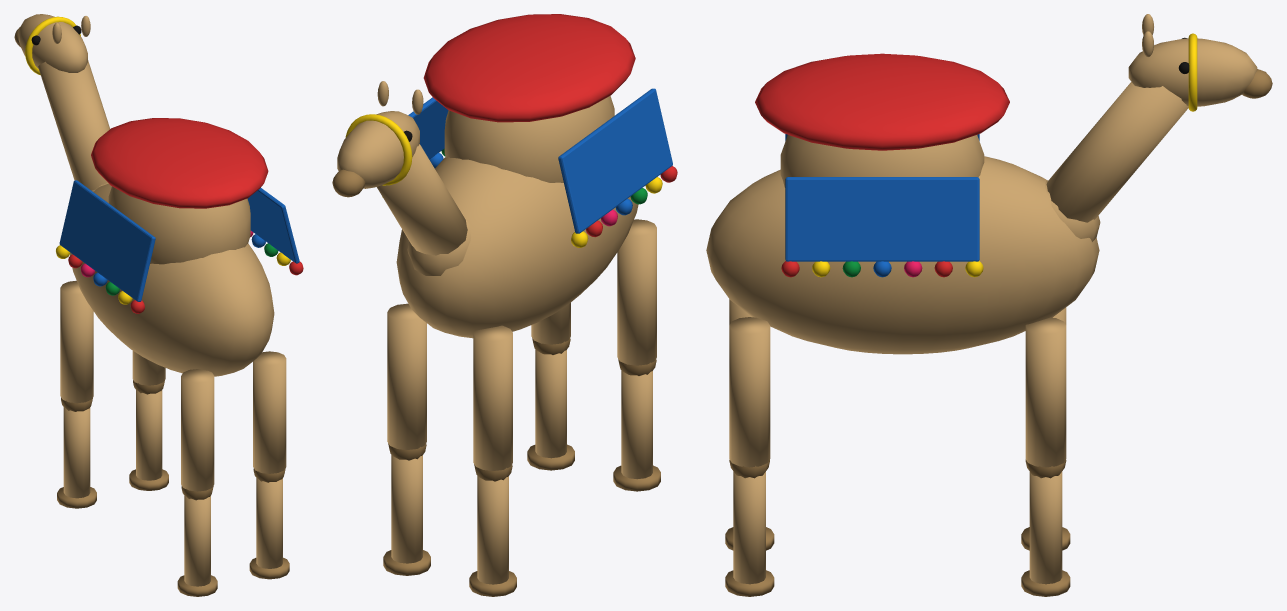
The model's file is camel.glb.
The picture shows the model from 3 angles, left to right: view 1: azimuth 30°, elevation 25°; view 2: azimuth 150°, elevation 25°; view 3: azimuth 270°, elevation 25°; orthographic projection. The views are drawn at different scales.
Visible parts, largest first — view 1: Sphere, Sphere.013, Cube, Sphere.001, Cylinder, Cylinder.001, Cylinder.007, Cylinder.004, Sphere.003, Cylinder.005, Cylinder.011, Cylinder.002 (+8 smaller); view 2: Sphere, Sphere.013, Cube, Sphere.001, Cylinder.004, Cylinder.010, Cylinder.001, Cylinder, Sphere.003, Cylinder.011, Cylinder.005, Cylinder.002 (+10 smaller); view 3: Sphere, Sphere.013, Cube.001, Cylinder, Sphere.001, Cylinder.007, Cylinder.010, Sphere.003, Cylinder.011, Cylinder.008, Cylinder.009, Cylinder.012 (+2 smaller).
Part boxes in pixels (x1,y1,x2,y2): Sphere: (70,183,274,376); Sphere.013: (91,118,268,208); Cube: (59,180,155,301); Sphere.001: (108,186,250,264); Cylinder: (38,60,109,190); Cylinder.001: (181,369,214,491); Cylinder.007: (253,351,286,473); Cylinder.004: (60,280,93,403); Sphere.003: (18,14,87,72); Cylinder.005: (63,407,90,498); Cylinder.011: (136,390,162,480); Cylinder.002: (184,496,210,586); Sphere: (396,157,638,338); Sphere.013: (423,14,635,122); Cube: (558,88,672,233); Sphere.001: (444,96,614,182); Cylinder.004: (473,325,512,470); Cylinder.010: (387,303,426,449); Cylinder.001: (617,219,656,365); Cylinder: (377,144,467,255); Sphere.003: (337,111,419,188); Cylinder.011: (391,455,422,563); Cylinder.005: (477,476,508,584); Cylinder.002: (621,370,652,479); Sphere: (706,156,1099,354); Sphere.013: (755,53,1009,150); Cube.001: (785,177,979,261); Cylinder: (1046,82,1188,222); Sphere.001: (780,135,984,187); Cylinder.007: (729,317,770,467); Cylinder.010: (1025,317,1066,467); Sphere.003: (1128,38,1257,106); Cylinder.011: (1029,471,1062,584); Cylinder.008: (733,471,765,584); Cylinder.009: (725,570,774,596); Cylinder.012: (1021,570,1070,596).
Bounding box in the file's own units: 1.19 × 2.93 × 2.77.
